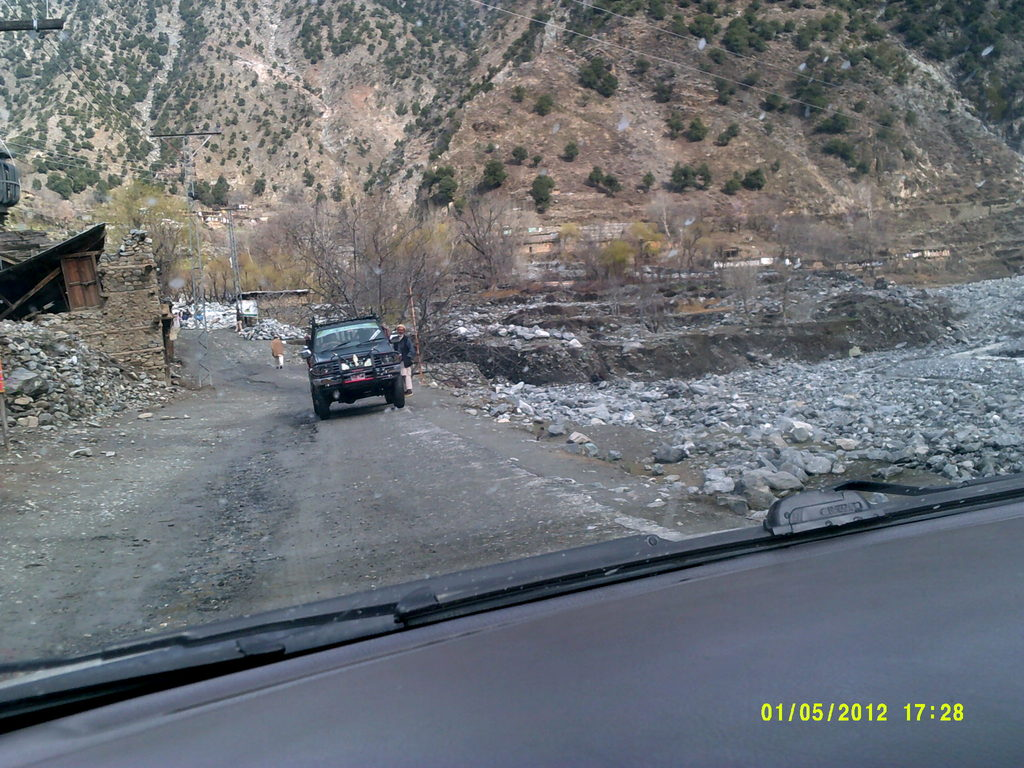Car: (1, 1, 1023, 767), (291, 308, 406, 418)
